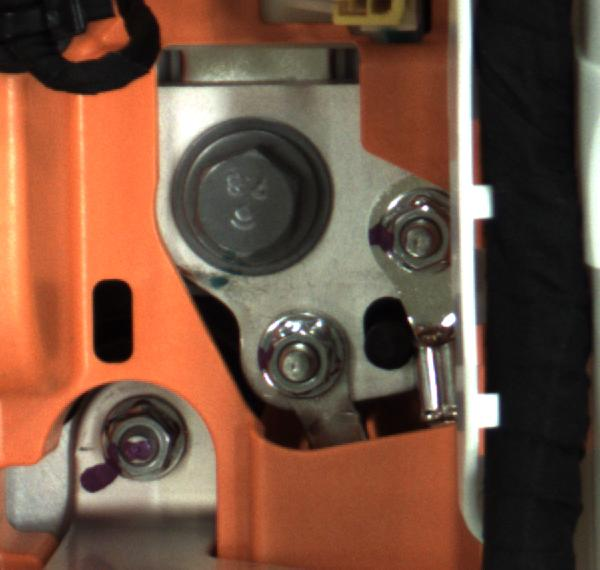nut_b: (165, 122, 329, 276)
screw_s: (250, 316, 352, 399), (96, 405, 196, 484), (379, 199, 462, 278)
